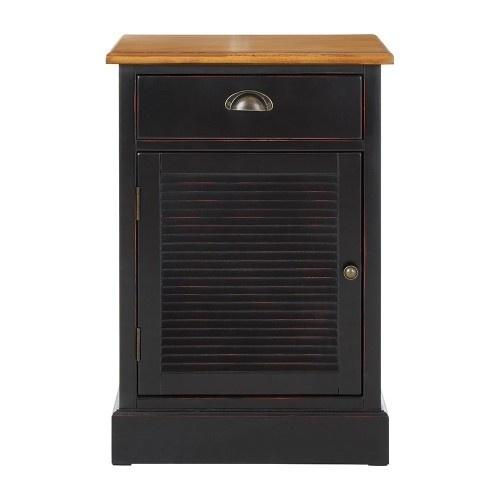cabinet_door: (136, 156, 363, 409), (137, 71, 360, 143)
handle: (225, 87, 278, 118), (343, 260, 359, 286)
